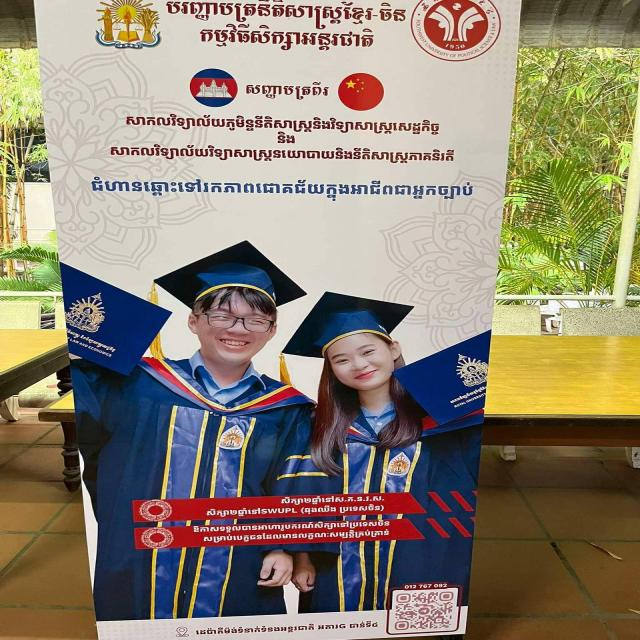Yolov11kh: (89, 174, 474, 205), (122, 110, 443, 136), (166, 0, 413, 33), (105, 142, 459, 162), (195, 22, 379, 54), (200, 528, 391, 546), (190, 518, 392, 534), (193, 620, 339, 638), (242, 77, 333, 100), (277, 493, 386, 506), (303, 502, 381, 514), (204, 506, 261, 519), (347, 618, 380, 631), (403, 582, 448, 590), (273, 130, 298, 144)
